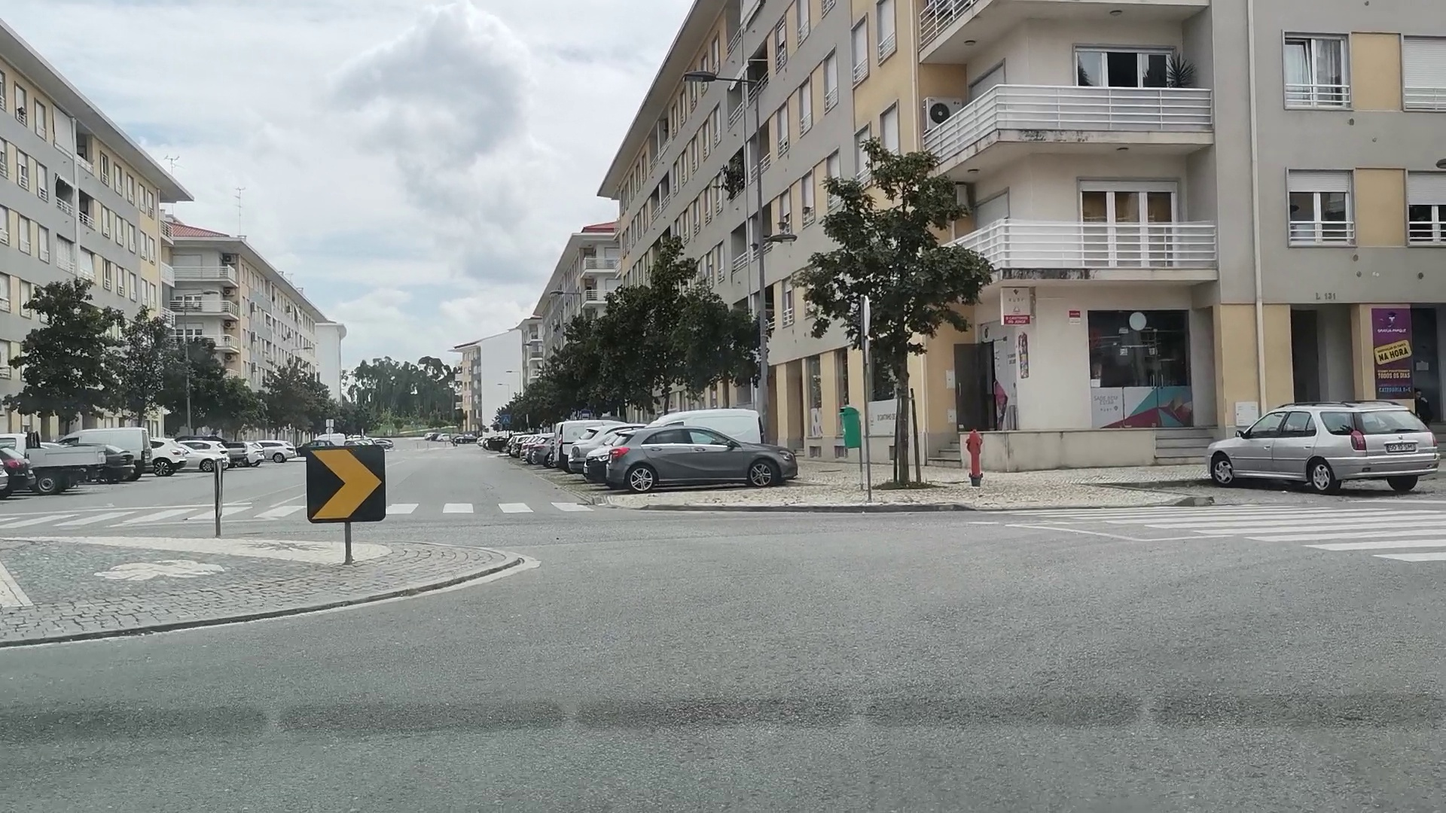Stairs: (1063, 509, 1446, 576), (0, 499, 597, 524)
